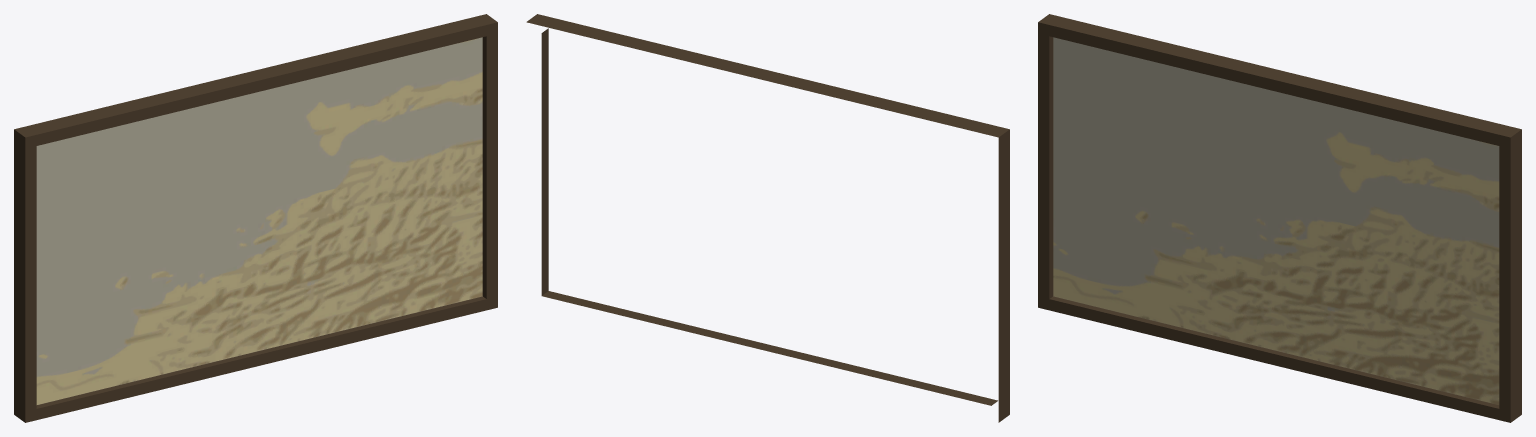
File: FramedMap.glb
The picture shows the model from 3 angles, left to right: view 1: azimuth 30°, elevation 25°; view 2: azimuth 150°, elevation 25°; view 3: azimuth 330°, elevation 25°; orthographic projection.
Parts seen in each view (by area): view 1: Cube.001, Cube; view 2: Cube; view 3: Cube.001, Cube.
Boxes of the visible parts, x1,y1,x2,y2 form: Cube.001: (36, 37, 482, 404); Cube: (14, 14, 497, 422); Cube: (526, 14, 1009, 422); Cube.001: (1053, 37, 1499, 404); Cube: (1038, 14, 1521, 422).
Size of the model in its own units: 1.9 by 1.1 by 0.0786.
Materials: 2 (2 with a texture image).
